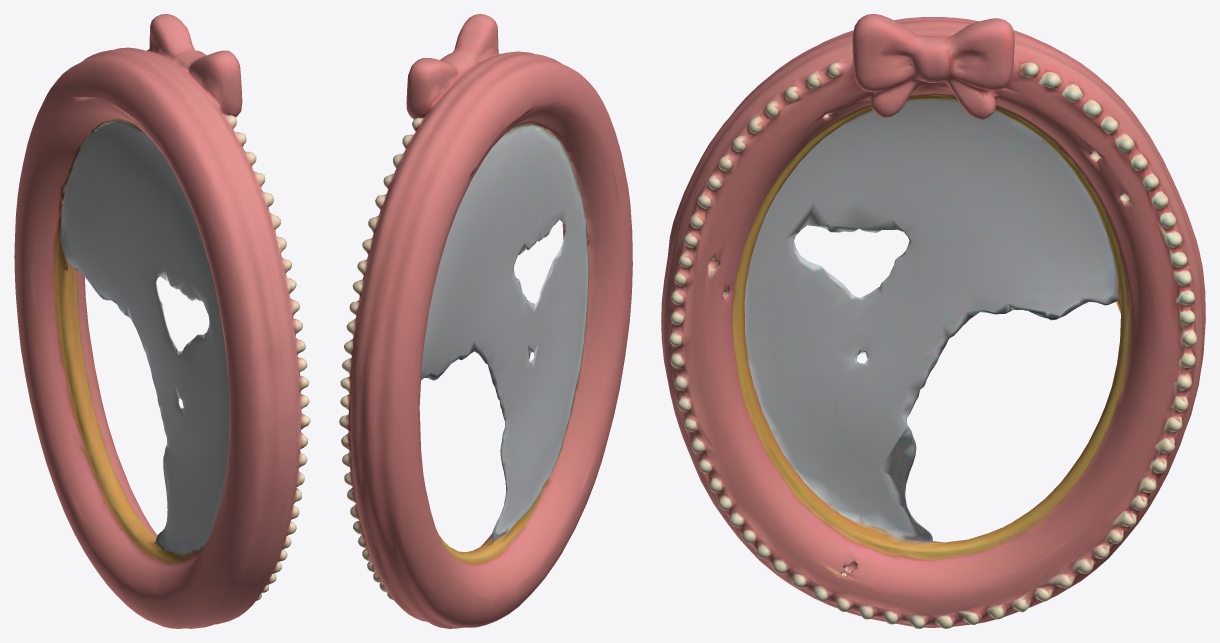
Rendered from room-round-mirror.glb.
The picture shows the model from 3 angles, left to right: view 1: azimuth 30°, elevation 25°; view 2: azimuth 150°, elevation 25°; view 3: azimuth 270°, elevation 25°; orthographic projection. The views are drawn at different scales.
Parts seen in each view (by area): view 1: tripo_node_bb4cfc39-98a7-4b82-ab9a-9fe2610b3af4; view 2: tripo_node_bb4cfc39-98a7-4b82-ab9a-9fe2610b3af4; view 3: tripo_node_bb4cfc39-98a7-4b82-ab9a-9fe2610b3af4.
Boxes of the visible parts, box(x1,y1,x2,y2) form: tripo_node_bb4cfc39-98a7-4b82-ab9a-9fe2610b3af4: box(14, 14, 310, 628); tripo_node_bb4cfc39-98a7-4b82-ab9a-9fe2610b3af4: box(339, 14, 632, 628); tripo_node_bb4cfc39-98a7-4b82-ab9a-9fe2610b3af4: box(661, 14, 1205, 628).
Bounding box in the file's own units: 0.15 × 0.9773 × 0.7715.
Materials: 1 (1 with a texture image).
